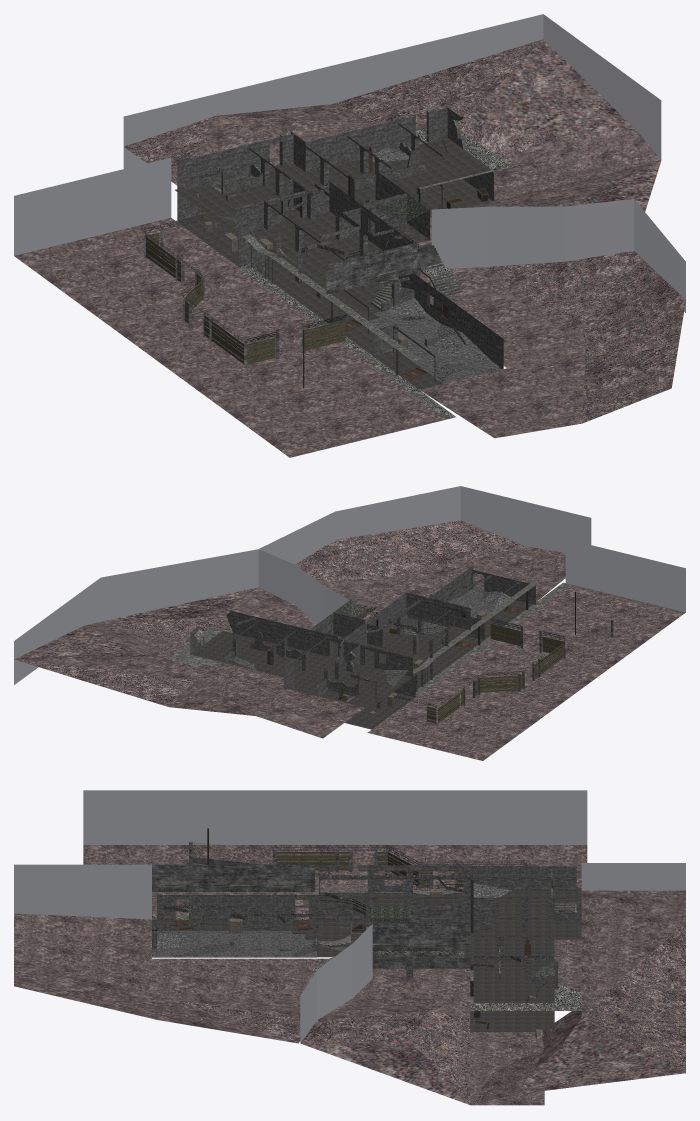
The model's file is ndu.glb.
3 views of the same model, one above another, from view 1: azimuth 30°, elevation 25°; view 2: azimuth 150°, elevation 25°; view 3: azimuth 270°, elevation 25° (orthographic). The views are drawn at different scales.
Parts seen in each view (by area): view 1: world, world_sky, func_illusionary_398, func_illusionary_396, func_wall_213, func_wall_331, func_illusionary_400, func_wall_208, func_wall_281, func_wall_168, func_wall_210; view 2: world, world_sky, func_illusionary_396, func_illusionary_398, func_illusionary_400, func_wall_331, func_wall_168; view 3: world, world_sky, func_illusionary_398, func_illusionary_396, func_wall_168, func_wall_343, func_wall_210, func_wall_208, func_illusionary_399.
Boxes of the visible parts, x1,y1,x2,y2 form: world: (14,39,685,457); world_sky: (14,14,685,312); func_illusionary_398: (182,295,279,367); func_illusionary_396: (143,231,204,319); func_wall_213: (417,245,462,296); func_wall_331: (270,255,419,360); func_illusionary_400: (300,315,346,353); func_wall_208: (430,324,490,360); func_wall_281: (354,149,426,189); func_wall_168: (370,194,429,252); func_wall_210: (399,277,490,344); world: (14,520,685,760); world_sky: (14,486,685,684); func_illusionary_396: (436,671,520,722); func_illusionary_398: (518,629,566,691); func_illusionary_400: (490,619,523,648); func_wall_331: (432,580,539,658); func_wall_168: (335,600,378,618); world: (14,845,685,1105); world_sky: (14,790,685,1042); func_illusionary_398: (272,845,387,872); func_illusionary_396: (388,845,525,888); func_wall_168: (351,906,411,933); func_wall_343: (319,878,470,902); func_wall_210: (164,905,311,928); func_wall_208: (174,943,263,957); func_illusionary_399: (189,841,269,864).
Size of what is drawn, in the model's own units: 74.27 by 7.52 by 81.08.
21 materials, 20 textured.
